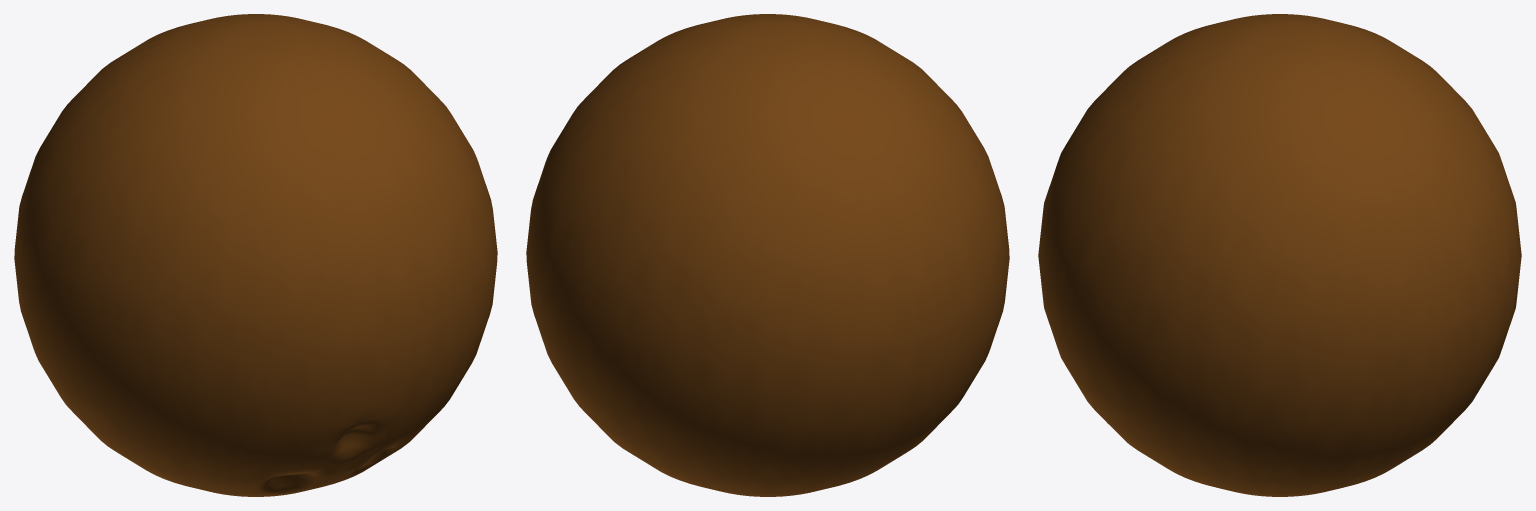
Rendered from coconut.glb.
The picture shows the model from 3 angles, left to right: view 1: azimuth 30°, elevation 25°; view 2: azimuth 150°, elevation 25°; view 3: azimuth 270°, elevation 25°; orthographic projection.
Visible parts, largest first — view 1: Sphere; view 2: Sphere; view 3: Sphere.
Part boxes in pixels (x1,y1,x2,y2): Sphere: (14, 14, 497, 496); Sphere: (526, 14, 1009, 496); Sphere: (1038, 14, 1521, 496).
Size of the model in its own units: 2.03 by 2.03 by 2.03.
